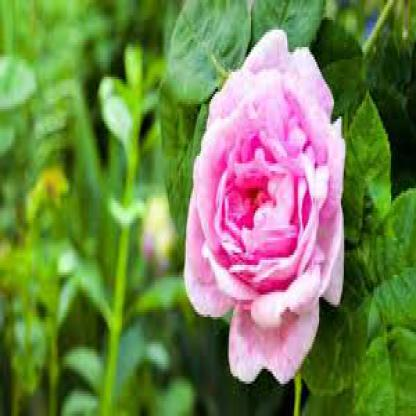Rose-Mawar: (176, 21, 345, 390)
